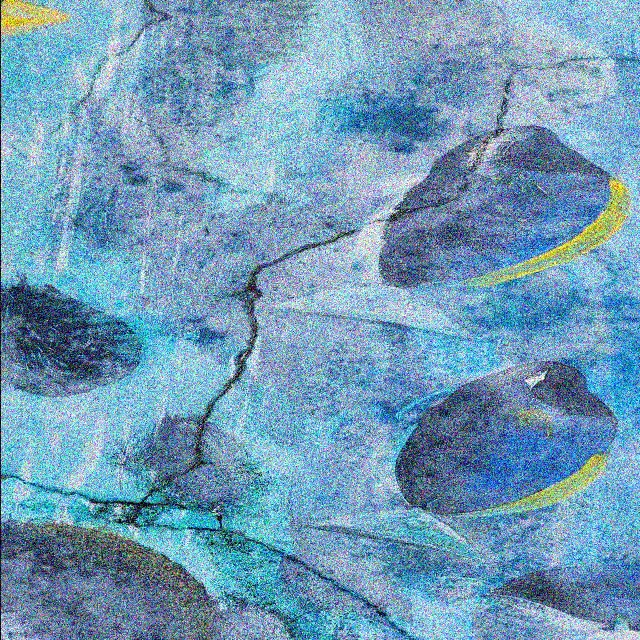SurfaceCrack: (1, 3, 639, 620)
